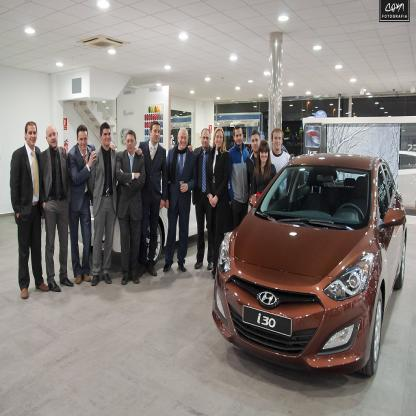Car: (216, 155, 406, 380), (74, 175, 206, 264)
